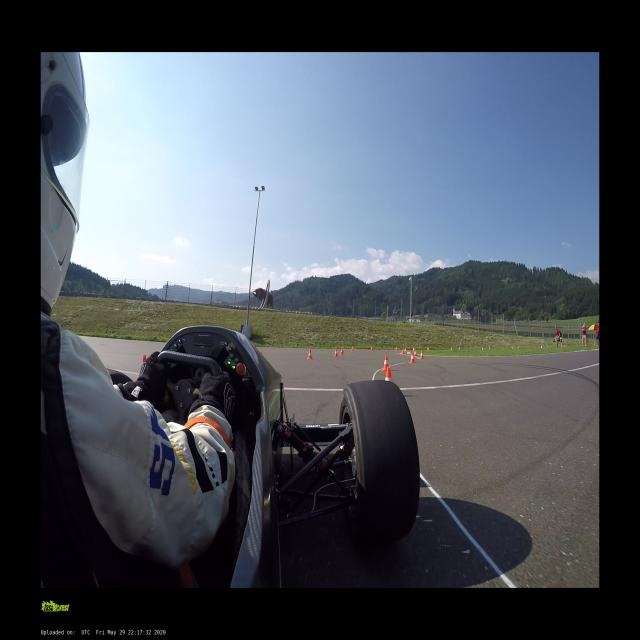orange_cone: (139, 354, 146, 376), (383, 354, 390, 370), (385, 367, 392, 382), (410, 352, 416, 363), (307, 349, 312, 359), (419, 350, 424, 359), (334, 348, 337, 356), (414, 349, 417, 356), (340, 348, 342, 355), (341, 346, 343, 353), (402, 348, 404, 354), (352, 346, 354, 352), (427, 346, 429, 352), (395, 346, 397, 351), (404, 348, 406, 353), (412, 347, 414, 352), (260, 351, 262, 354), (371, 346, 372, 350)
